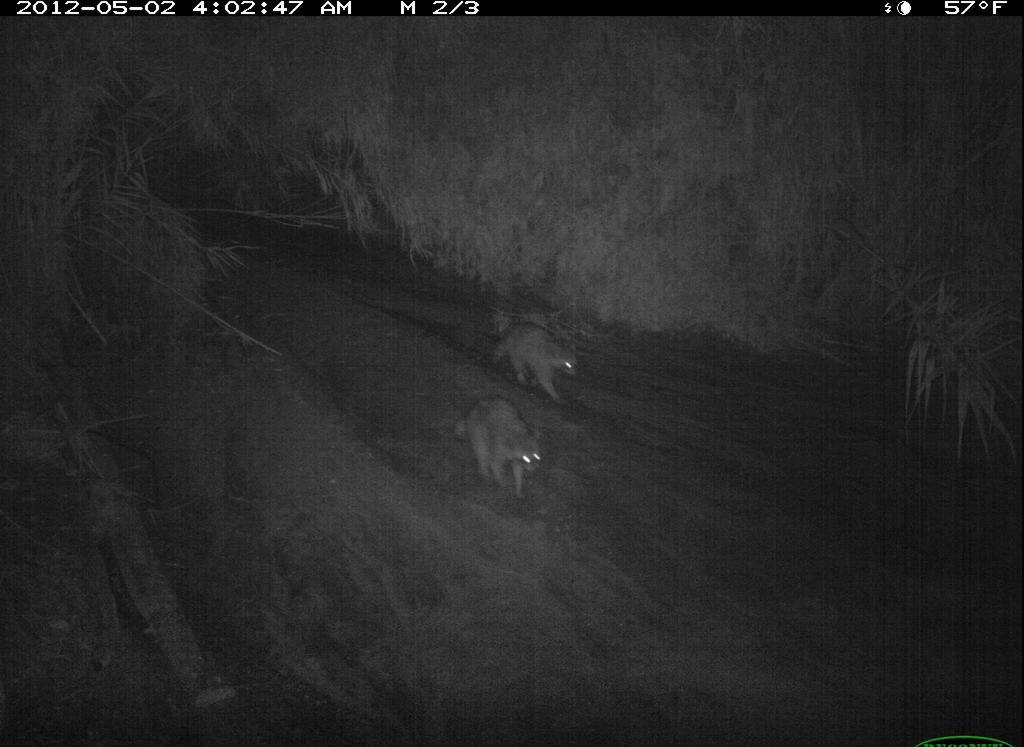raccoon: (973, 633, 1024, 747)
